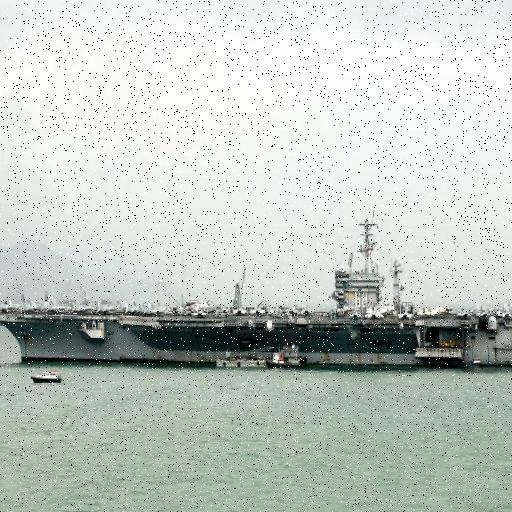Portanaves: (1, 209, 512, 372)
